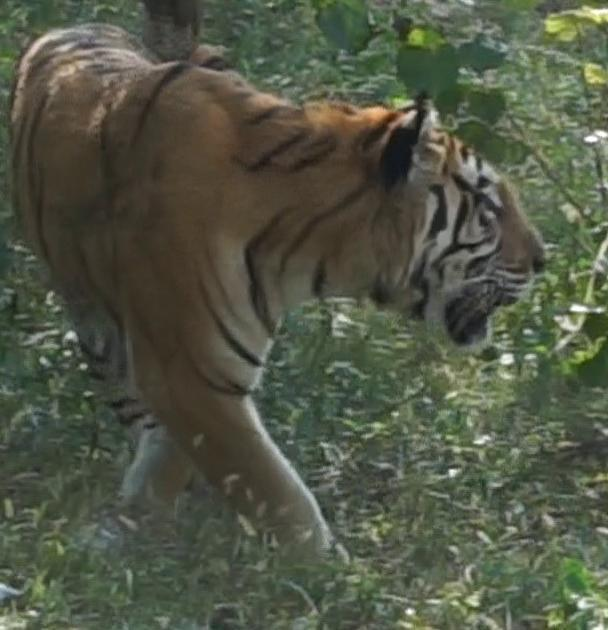tiger: (13, 0, 543, 554)
